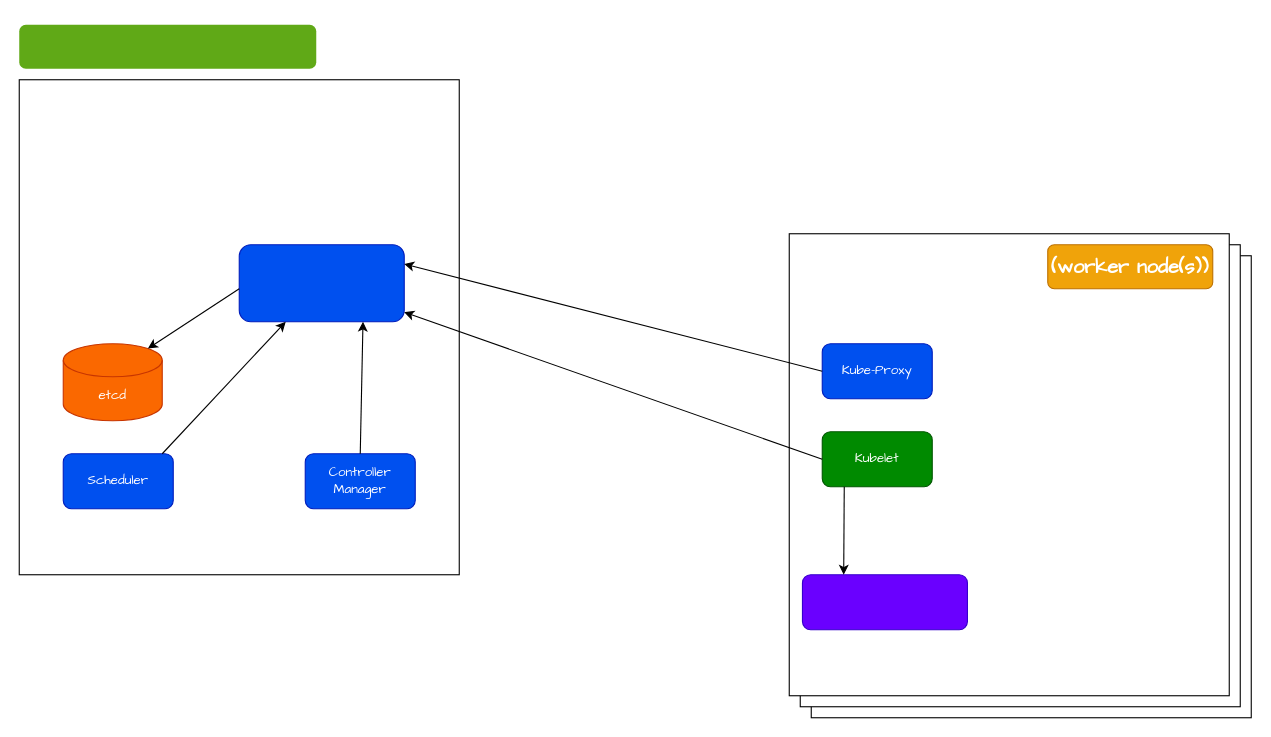
This 1271x737 diagram has some shape labels left out. The shapes that lost their labels are listed below. From the top down, each one's centre as x and y in pixels, then its label:
At pixel 167 46: "Control Plane (master node)".
At pixel 321 283: "API Server (REST API)".
At pixel 884 602: "Container Runtime (Docker)".
